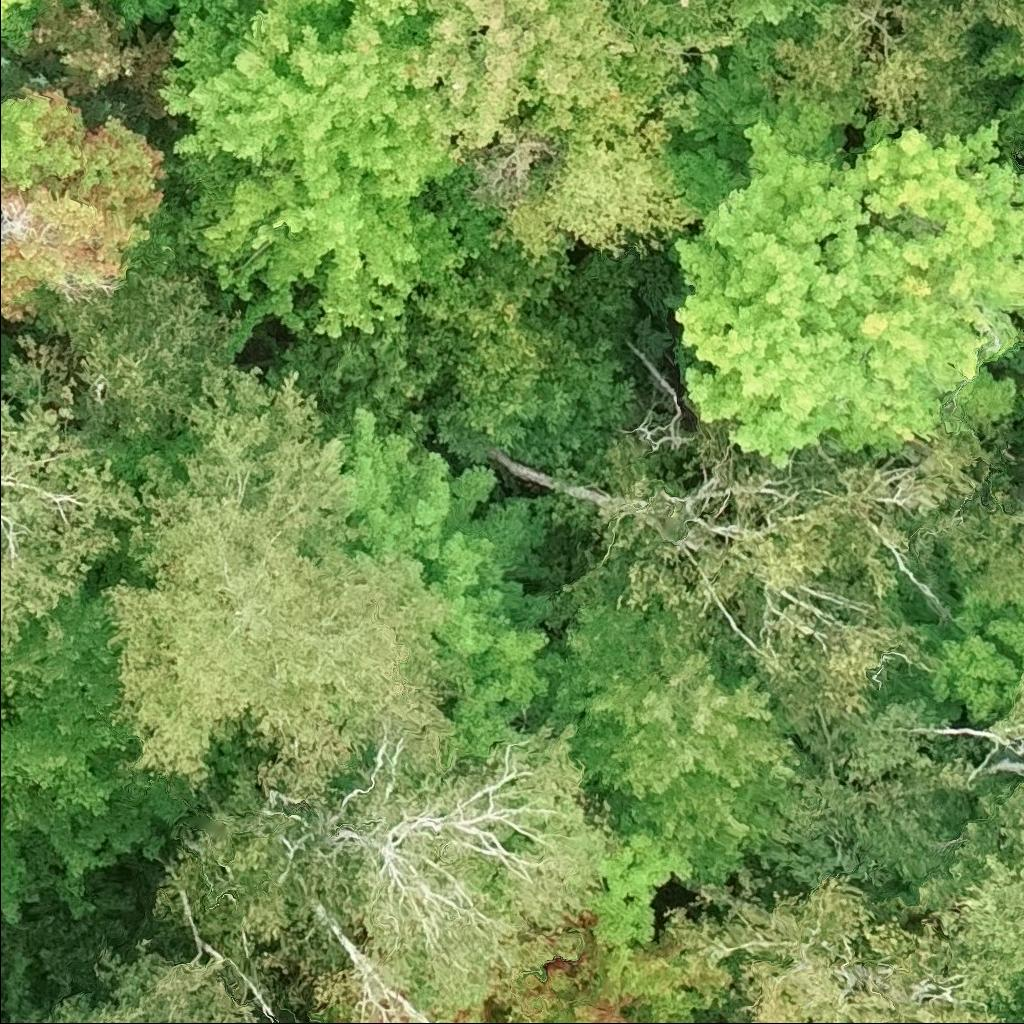crown: (99, 357, 471, 797), (146, 713, 624, 1023), (666, 97, 1023, 467), (597, 418, 988, 745), (528, 602, 817, 882), (342, 406, 558, 757), (169, 150, 483, 363), (0, 587, 186, 927), (154, 0, 459, 203), (662, 871, 1006, 1023), (0, 83, 172, 326), (392, 0, 639, 168), (0, 398, 146, 656), (32, 267, 243, 443), (504, 93, 710, 269), (428, 335, 646, 470), (407, 253, 580, 401), (919, 781, 1023, 1023), (886, 562, 1023, 725), (9, 941, 262, 1023), (20, 0, 173, 122), (548, 925, 736, 1023), (587, 819, 698, 948), (486, 929, 605, 1023), (934, 492, 1023, 602), (110, 0, 240, 43), (727, 0, 839, 29), (0, 0, 46, 57), (1009, 0, 1023, 59), (641, 0, 658, 7), (68, 0, 80, 5), (682, 0, 696, 4), (92, 0, 97, 1)
